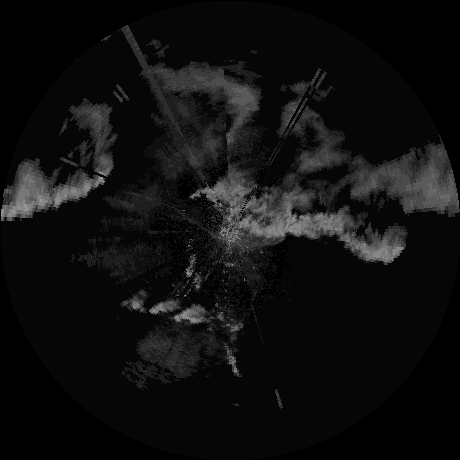frontgust: (119, 189, 221, 238)
